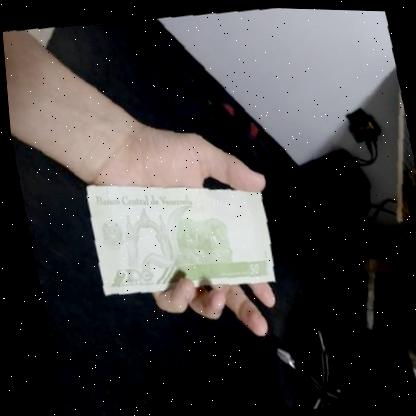fifty-back-vef: (74, 158, 277, 306)
